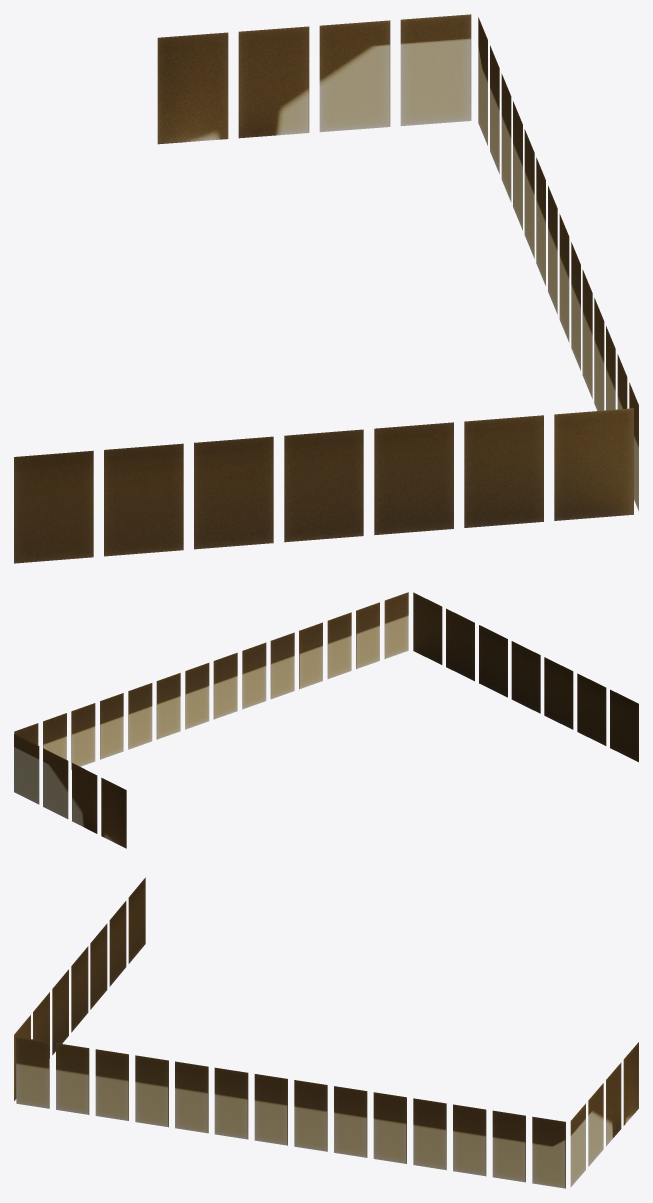
The model's file is Building_05_Cafe_Glass.fbx.
3 views of the same model, one above another, from view 1: azimuth 30°, elevation 25°; view 2: azimuth 150°, elevation 25°; view 3: azimuth 270°, elevation 25° (orthographic). The views are drawn at different scales.
Visible parts, largest first — view 1: Building_05_Cafe_Glass; view 2: Building_05_Cafe_Glass; view 3: Building_05_Cafe_Glass.
Part boxes in pixels (x1,y1,x2,y2): Building_05_Cafe_Glass: [14, 14, 638, 563]; Building_05_Cafe_Glass: [14, 592, 638, 848]; Building_05_Cafe_Glass: [14, 877, 638, 1188].
Size of the model in its own units: 17.34 by 2.21 by 18.73.
Materials: 1 (1 with a texture image).
